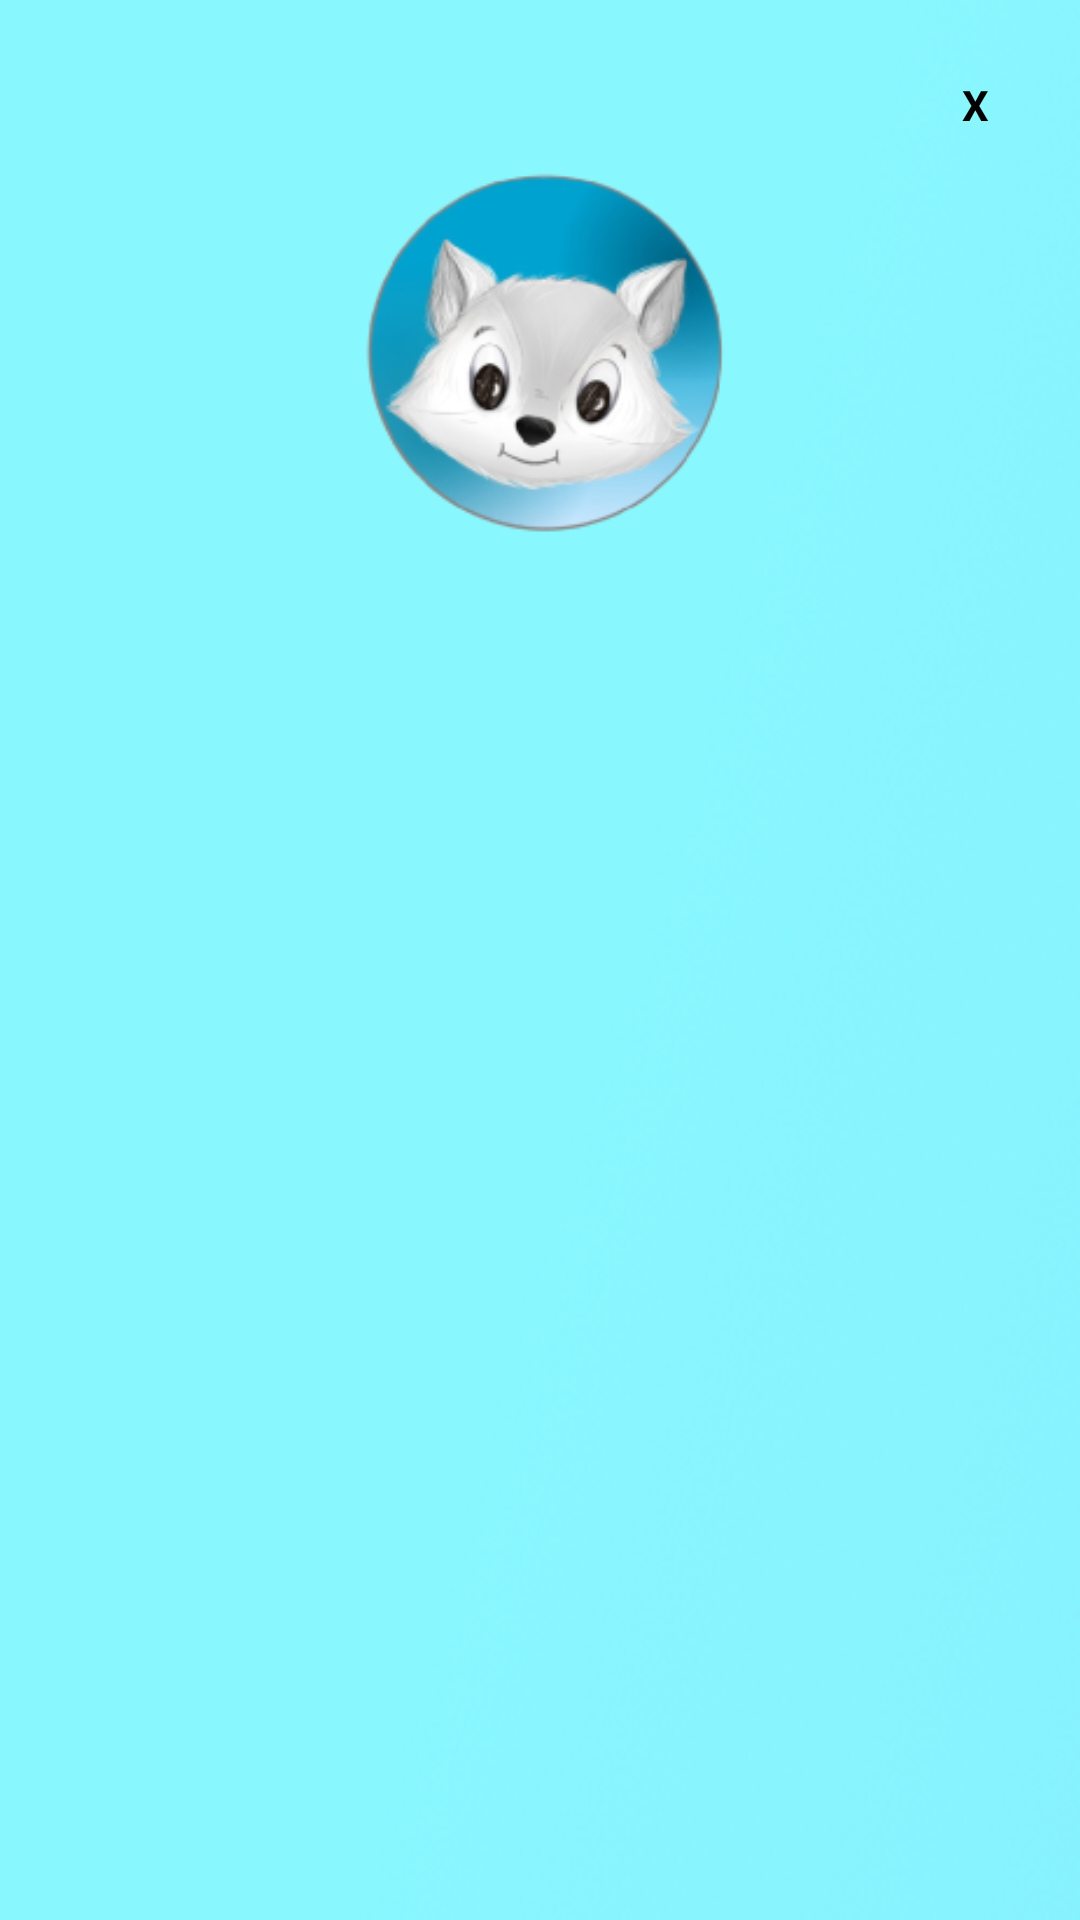

Point at icon controls on the screen. Image size 1080px×1920px, points as (x,y).
maskot for dialog: (544,353)
